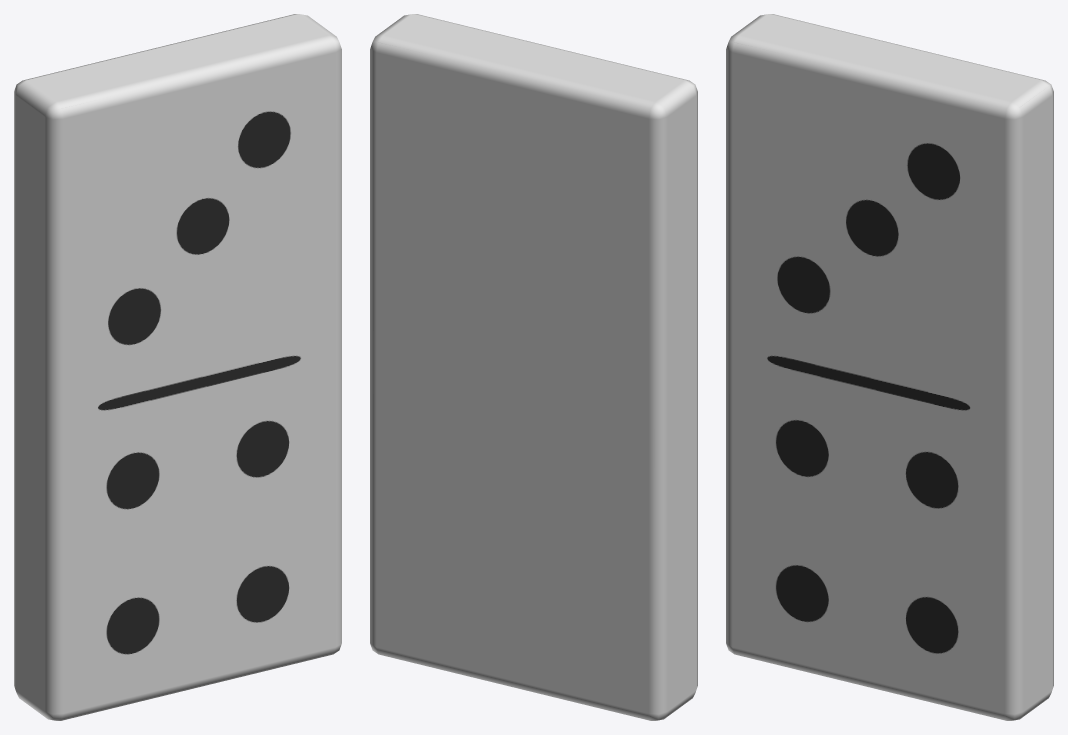
3 renders of one model, left to right at view 1: azimuth 30°, elevation 25°; view 2: azimuth 150°, elevation 25°; view 3: azimuth 330°, elevation 25°, orthographic.
Visible parts, largest first — view 1: Low; view 2: Low; view 3: Low.
Boxes of the visible parts, bbox=[...] form: Low: bbox=[14, 14, 341, 720]; Low: bbox=[370, 14, 697, 720]; Low: bbox=[726, 14, 1053, 720].
Size of the model in its own units: 0.0254 by 0.0508 by 0.00635.
Materials: 1 (1 with a texture image).
